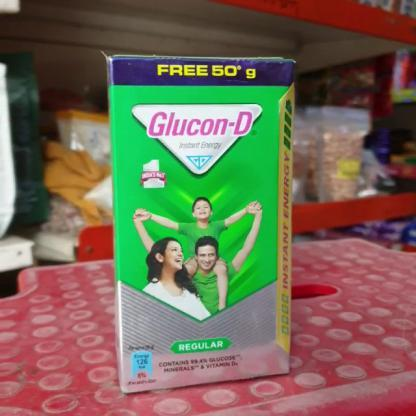Glucon D Regular 1-KG: (116, 54, 284, 397)
